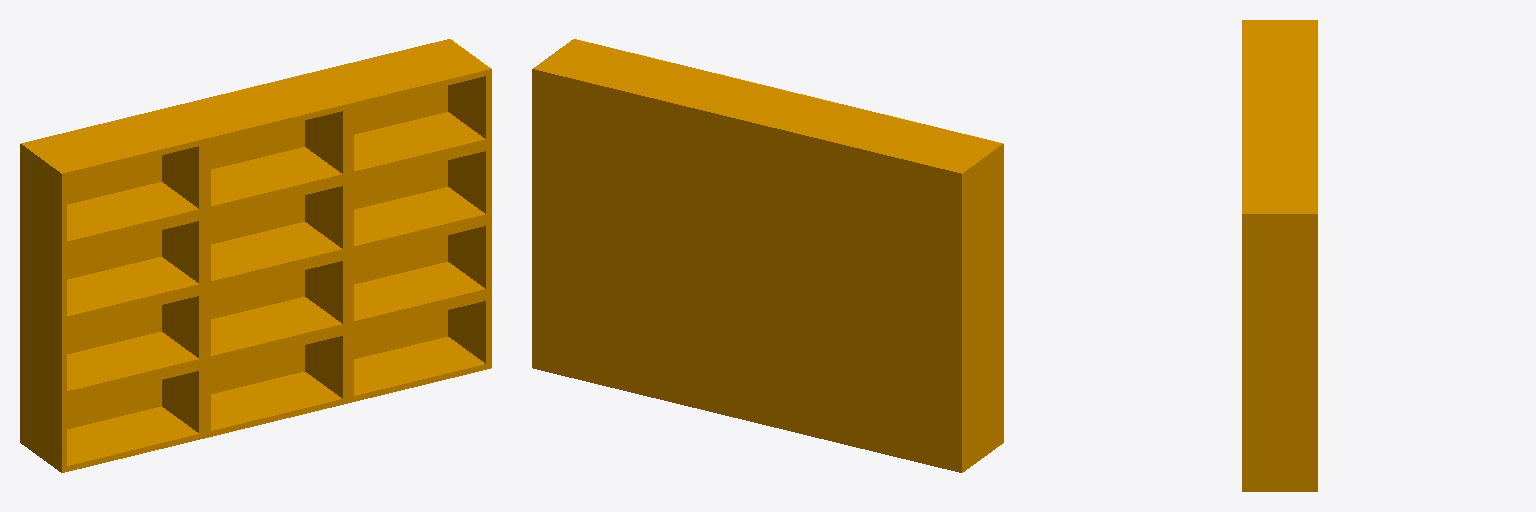
The robot description file, URDF, robot "shelf":
<?xml version="1.0"?>
<robot name="shelf">

  <link name="link">

   <!-- <inertial>
      <origin xyz="-0.01707072958296921 -0.009762855837207728 0.07058421978429177"
              rpy="0.0008027823824317601 0.0013536605031130087 0.2022337856188338" />
      <mass value="0.0010545331012102948" />
      <inertia
        ixx="2.2661150547293195e-06"
        ixy="1.8006239658831286e-22"
        ixz="-3.0733301310289394e-22"
        iyy="2.261091292777374e-06"
        iyz="-5.962806044885196e-22"
        izz="1.3207509037839934e-06" />
    </inertial> -->

    <!-- Collision -->
    <collision>
      <origin xyz="0 0 0" rpy="0 0 0"/>
      <geometry>
        <mesh filename="model://shelf/shelf.stl"/>
      </geometry>
    </collision>

    <!-- Visual -->
    <visual>
      <origin xyz="0 0 0" rpy="0 0 0"/>
      <geometry>
        <mesh filename="model://shelf/shelf.stl"/>
      </geometry>
    </visual>

  </link>

</robot>

--- Facts derived from the render (not from the file) ---
3 views of the same robot in one strip: view 1: azimuth 30°, elevation 25°; view 2: azimuth 150°, elevation 25°; view 3: azimuth 270°, elevation 25° (orthographic).
Robot: shelf — 1 links, 0 joints (none); root link link; default pose: every joint at zero.
Links seen in each view (by area): view 1: link; view 2: link; view 3: link.
Link boxes in pixels (<box>): link: <box>20,39,491,472</box>; link: <box>532,39,1003,472</box>; link: <box>1242,20,1317,491</box>.
Size in the robot's own frame: 6 by 1 by 4 metres.
Meshes: 1 distinct files referenced, 1 mesh visuals loaded (1 binary STL).
